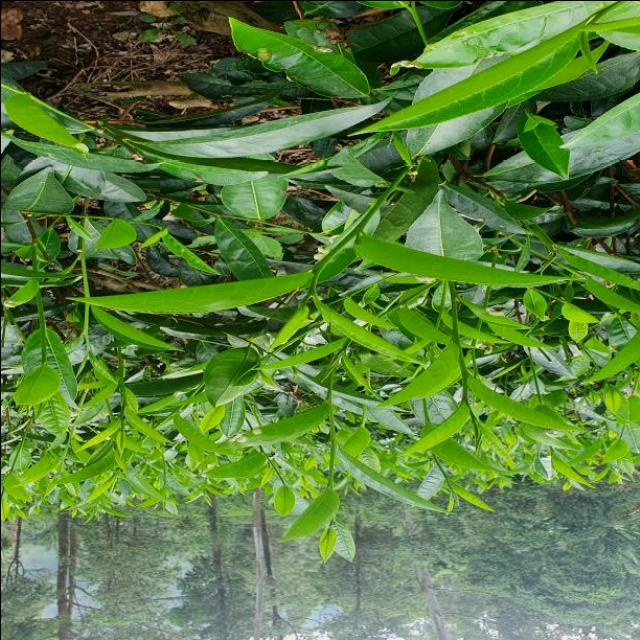Stem: (307, 277, 317, 293), (462, 383, 467, 400), (328, 467, 332, 485), (83, 320, 87, 333), (441, 470, 447, 478)
